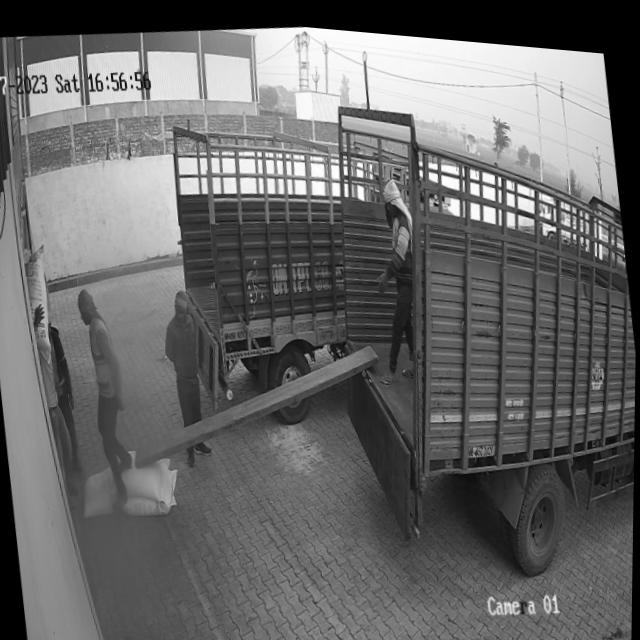sack: (119, 440, 177, 504), (120, 461, 184, 517), (77, 460, 122, 519)
